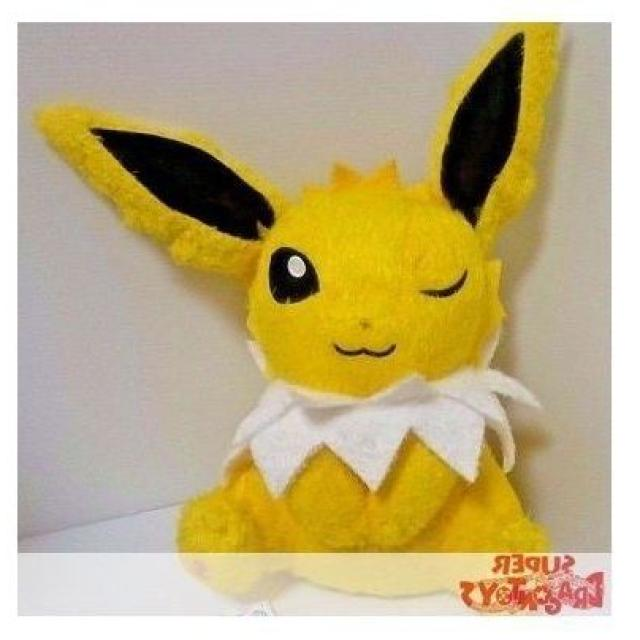Jolteon: (166, 116, 561, 605)
